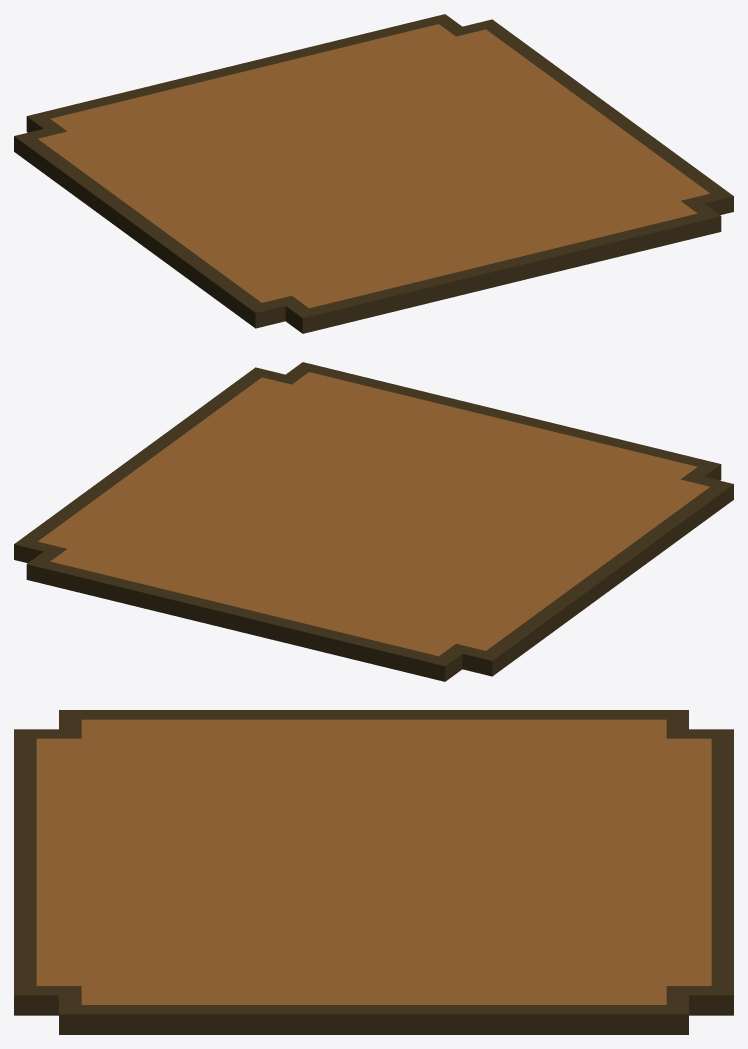
File: corner.obj
3 views of the same model, one above another, from view 1: azimuth 30°, elevation 25°; view 2: azimuth 150°, elevation 25°; view 3: azimuth 270°, elevation 25° (orthographic). The views are drawn at different scales.
Size of the model in its own units: 3.2 by 0.1 by 3.2.
1 material, 1 textured.
